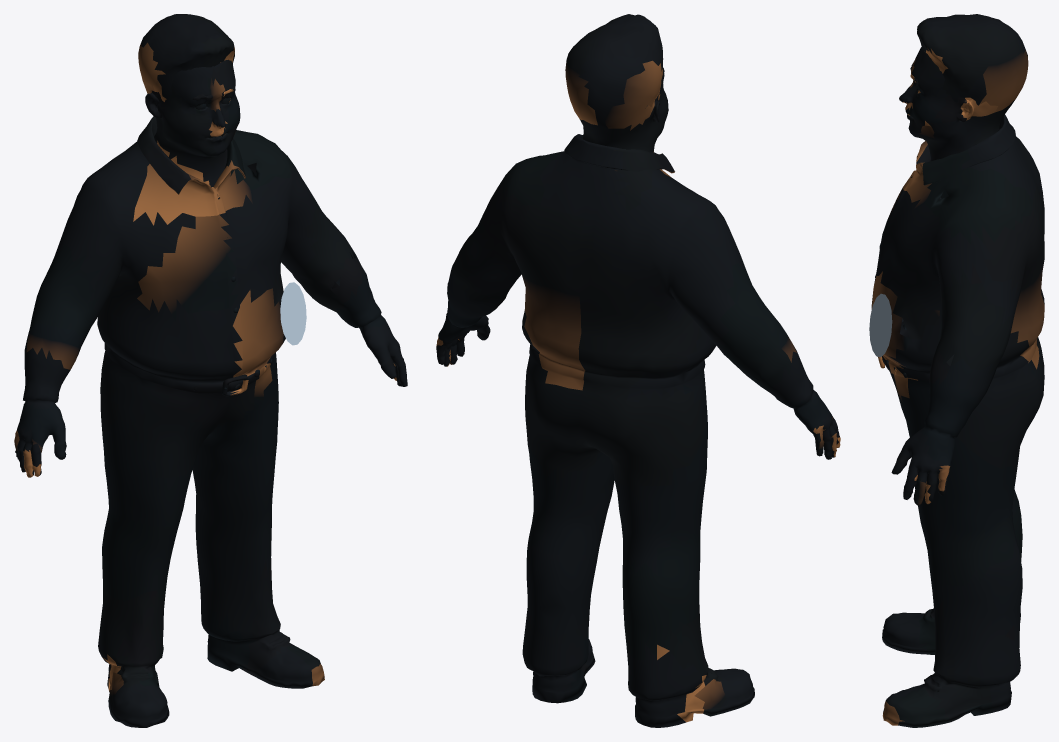
Rendered from AbdullahEkinci_MeshyPro_Unrigged.fbx.
3 views of the same model, side by side, from view 1: azimuth 30°, elevation 25°; view 2: azimuth 150°, elevation 25°; view 3: azimuth 270°, elevation 25° (orthographic). The views are drawn at different scales.
Visible parts, largest first — view 1: AbdullahEkinci; view 2: AbdullahEkinci; view 3: AbdullahEkinci.
Part boxes in pixels (left/top/right/bottom): AbdullahEkinci: left=14, top=14, right=407, bottom=727; AbdullahEkinci: left=436, top=14, right=840, bottom=727; AbdullahEkinci: left=869, top=14, right=1044, bottom=727.
Size of the model in its own units: 1.1 by 1.8 by 0.4349.
2 materials, 1 textured.
